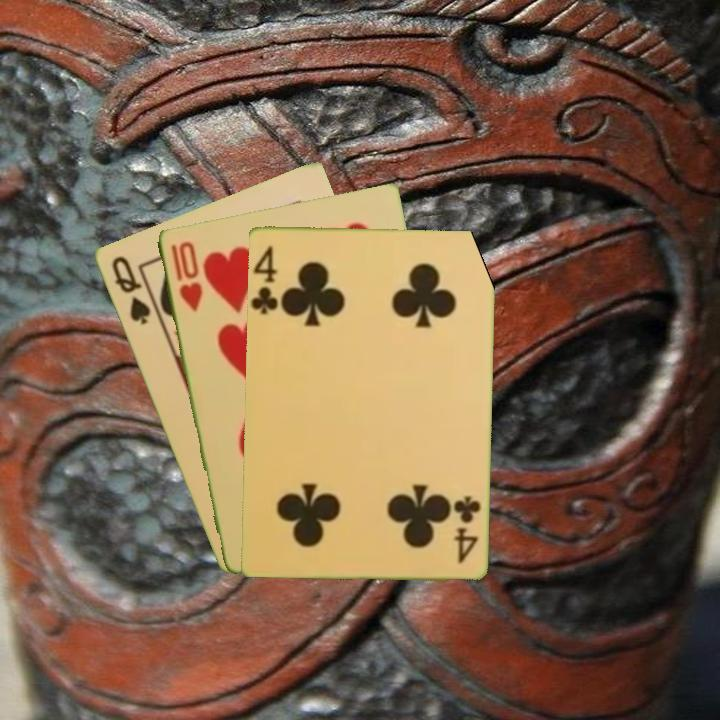10h: (167, 237, 205, 314)
4c: (450, 492, 483, 566), (249, 241, 280, 317)
Qs: (107, 252, 153, 328)
